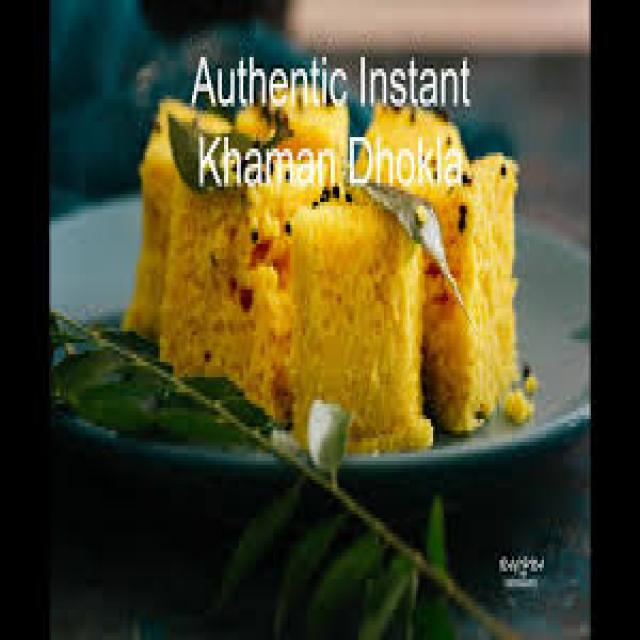DHOKLA: (126, 106, 526, 444)
